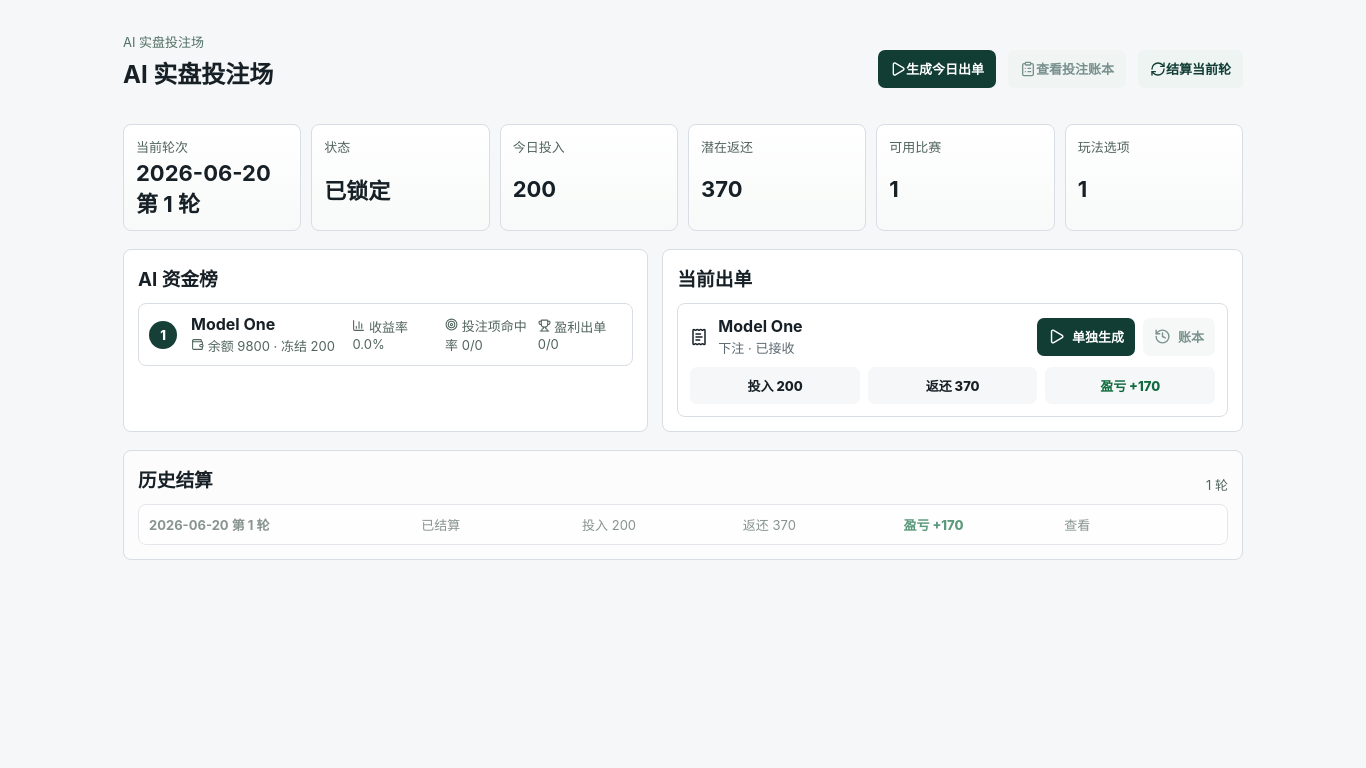
Test: BettingArenaPage › lets one model generate a slip and shows result progress
The image size is (1366, 768).
Click the button with aria-label "生成 Model One 投注单" at (1086,336), box [1037, 318, 1135, 356]
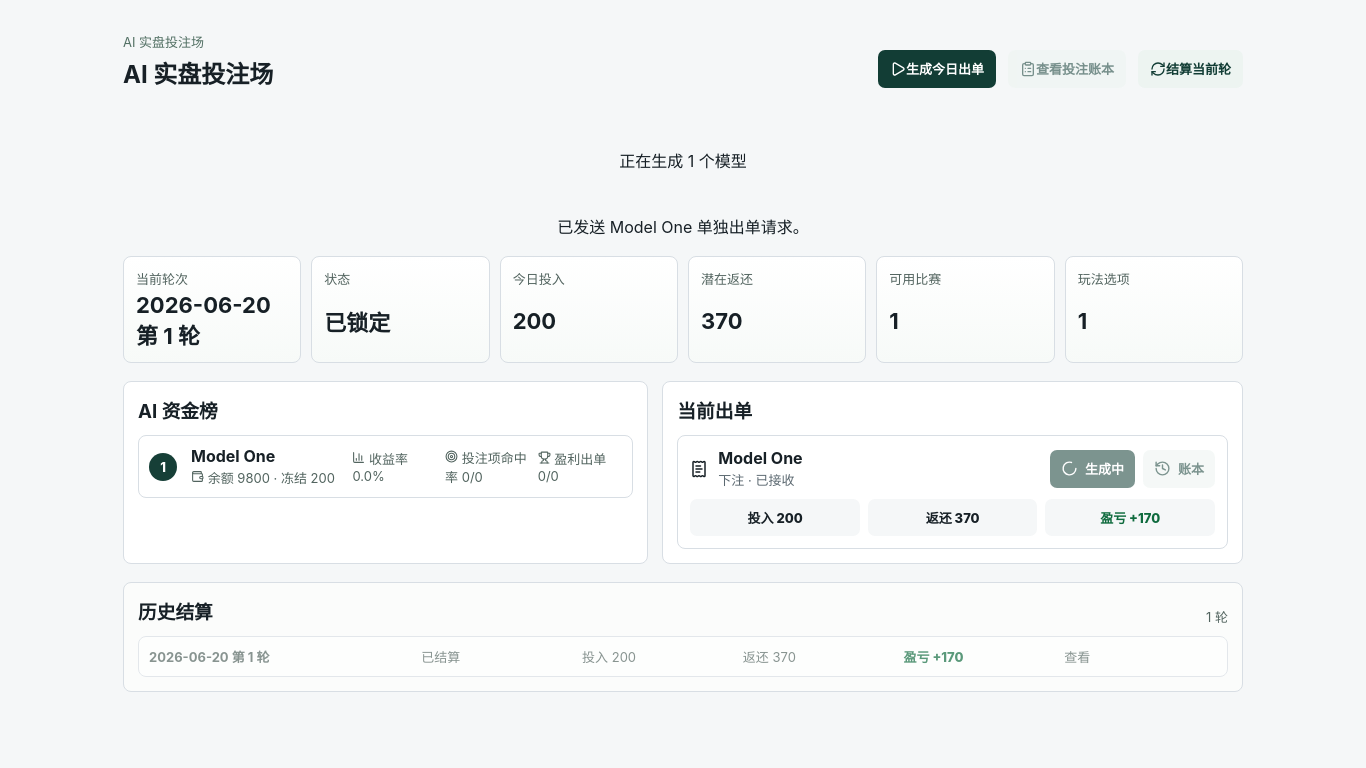
Click the button with aria-label "Model One 投注详情" at (760,458), box [690, 448, 1040, 489]
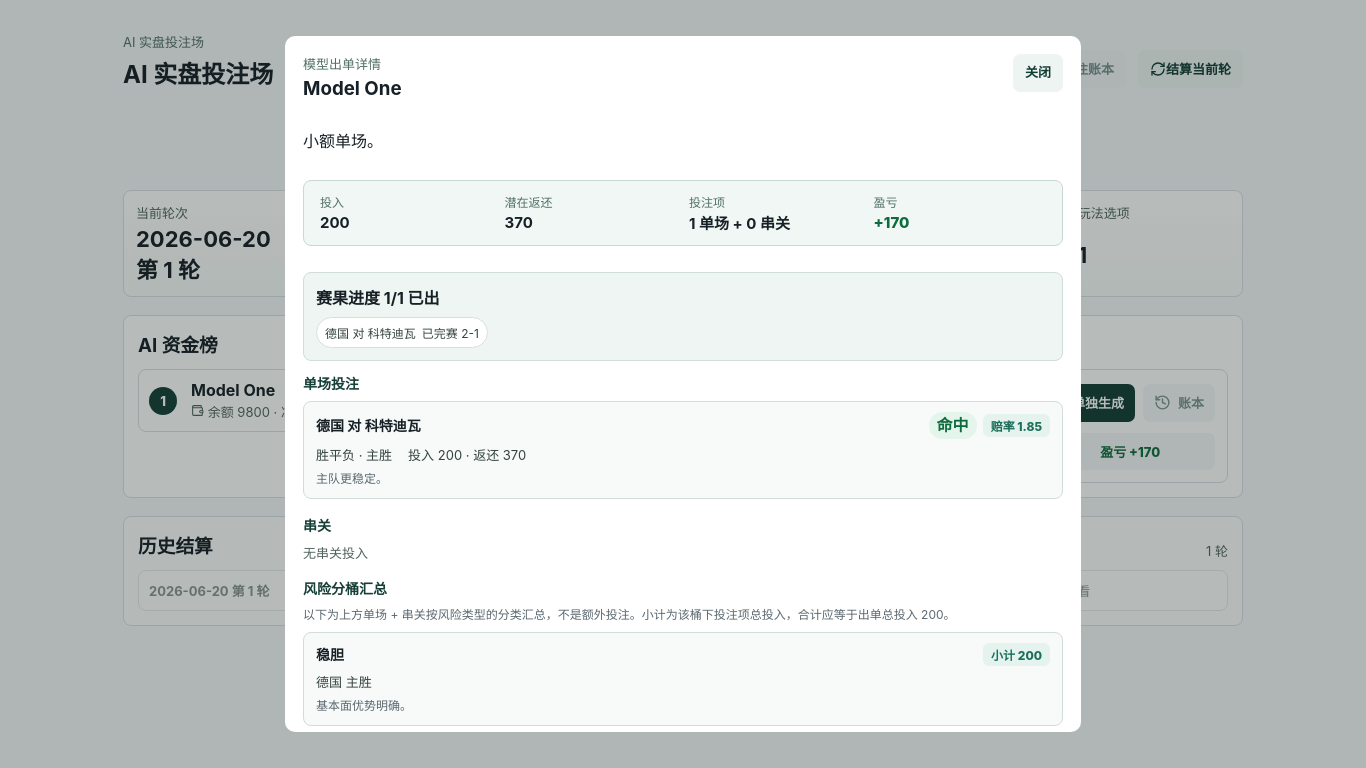
Check: the text "赛果进度 1/1 已出" is shown, box [316, 288, 440, 308]
Check: the text "已完赛 2-1" is shown, box [422, 324, 479, 341]
